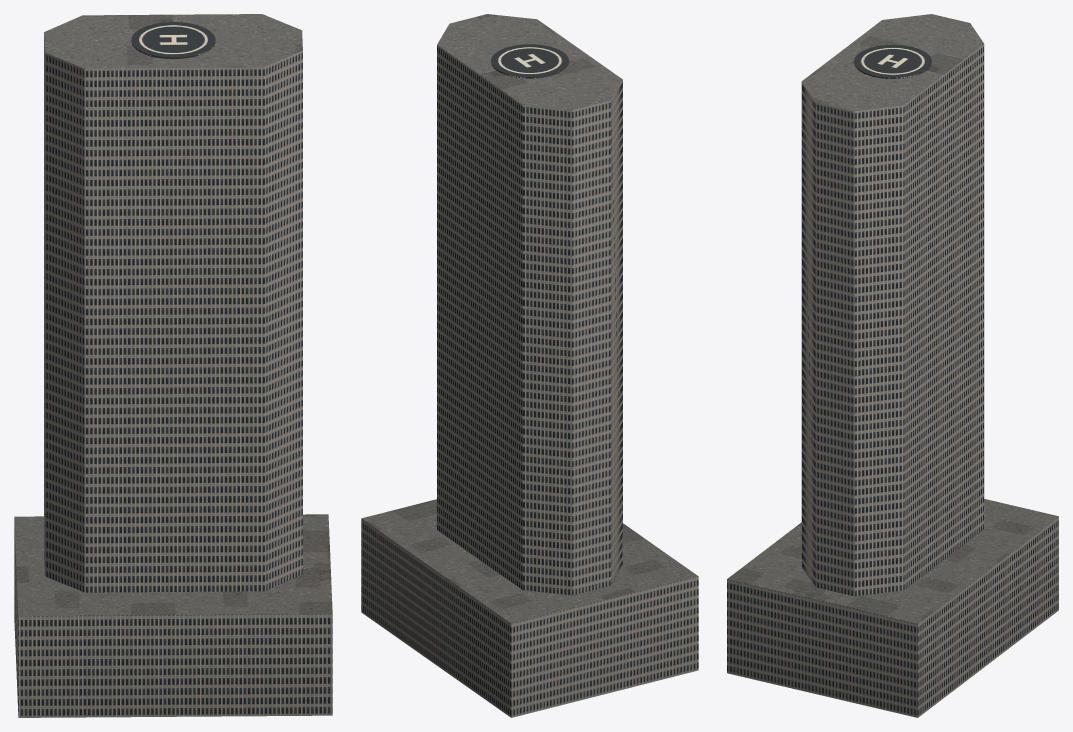
The model's file is metlife.glb.
3 views of the same model, side by side, from view 1: azimuth 30°, elevation 25°; view 2: azimuth 150°, elevation 25°; view 3: azimuth 270°, elevation 25° (orthographic). The views are drawn at different scales.
Parts seen in each view (by area): view 1: metlife; view 2: metlife; view 3: metlife.
Boxes of the visible parts, <box> form: metlife: <box>14,14,332,717</box>; metlife: <box>361,14,698,717</box>; metlife: <box>727,14,1058,717</box>.
Size of the model in its own units: 139 by 247 by 128.
5 materials, 5 textured.
